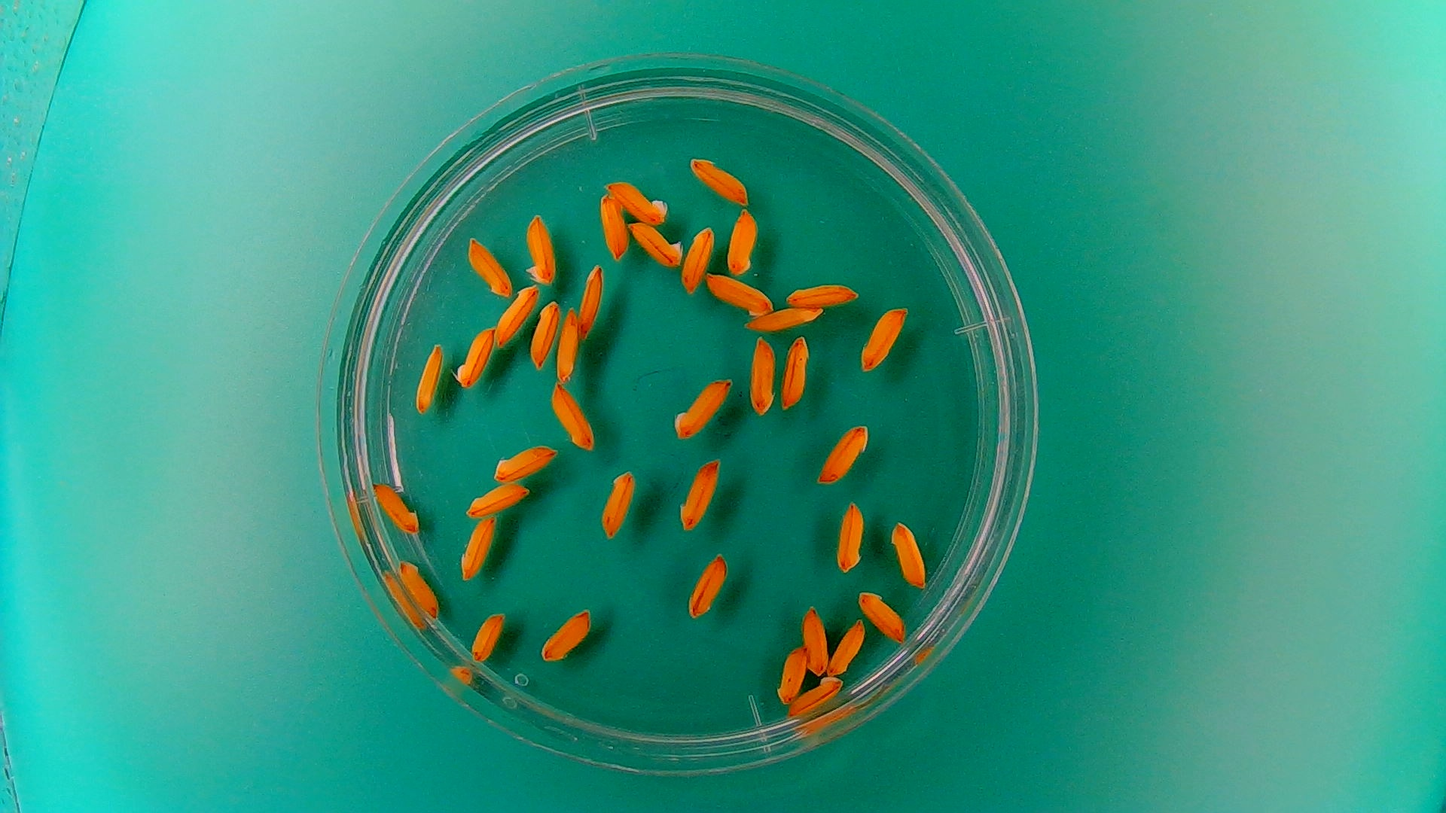no: (669, 373, 734, 441), (675, 451, 724, 534), (686, 152, 752, 207), (857, 303, 908, 374), (815, 421, 871, 485), (548, 379, 596, 452), (703, 269, 775, 317), (603, 175, 670, 225), (538, 604, 593, 664), (685, 548, 730, 621), (463, 234, 513, 299), (597, 465, 639, 540), (494, 282, 541, 349), (887, 517, 929, 590), (856, 586, 907, 645), (452, 323, 496, 391), (490, 441, 559, 483), (627, 218, 685, 267), (746, 333, 779, 419), (457, 513, 499, 580), (396, 556, 441, 618), (463, 480, 532, 520), (778, 331, 812, 412), (372, 479, 421, 535), (784, 673, 844, 718), (522, 211, 558, 285), (679, 222, 715, 295), (412, 340, 446, 415), (827, 616, 868, 677), (833, 496, 865, 574), (724, 205, 759, 276), (528, 297, 561, 370), (597, 192, 630, 263), (799, 603, 830, 678), (744, 304, 824, 333), (783, 278, 861, 307), (577, 261, 605, 340), (774, 643, 809, 706), (468, 608, 507, 663), (554, 303, 581, 382)
